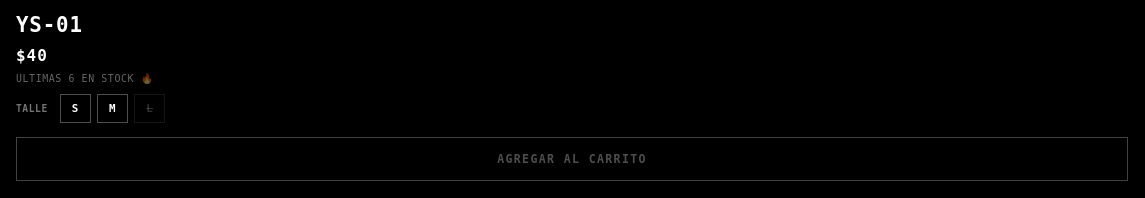
Test: ProductFeedInfo › al tocar el mismo talle dos veces lo deselecciona
This screenshot has width=1145, height=198.
Click the button with test id "size-S". click: (75, 108)
box: [60, 94, 91, 123]
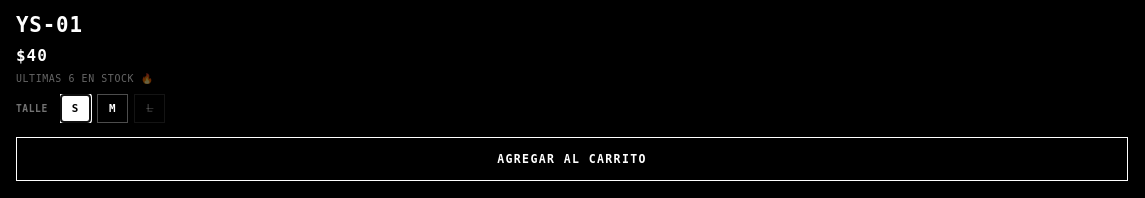
Click the button with test id "size-S". click: (75, 108)
box: [60, 94, 91, 123]
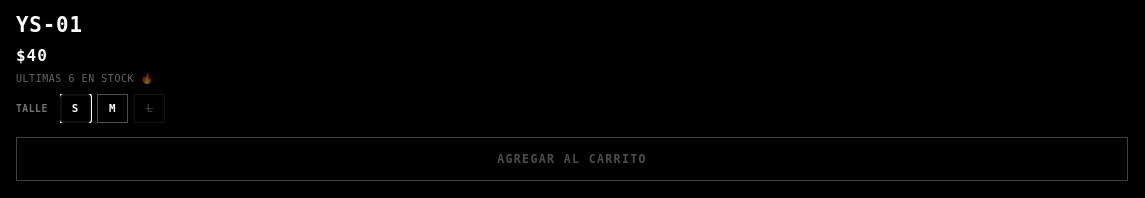
Now the button with test id "add-button" is disabled, box [16, 137, 1128, 181]
